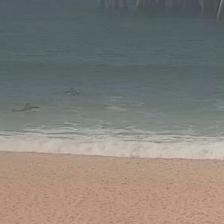surfer: (13, 103, 41, 113), (65, 88, 81, 97)
